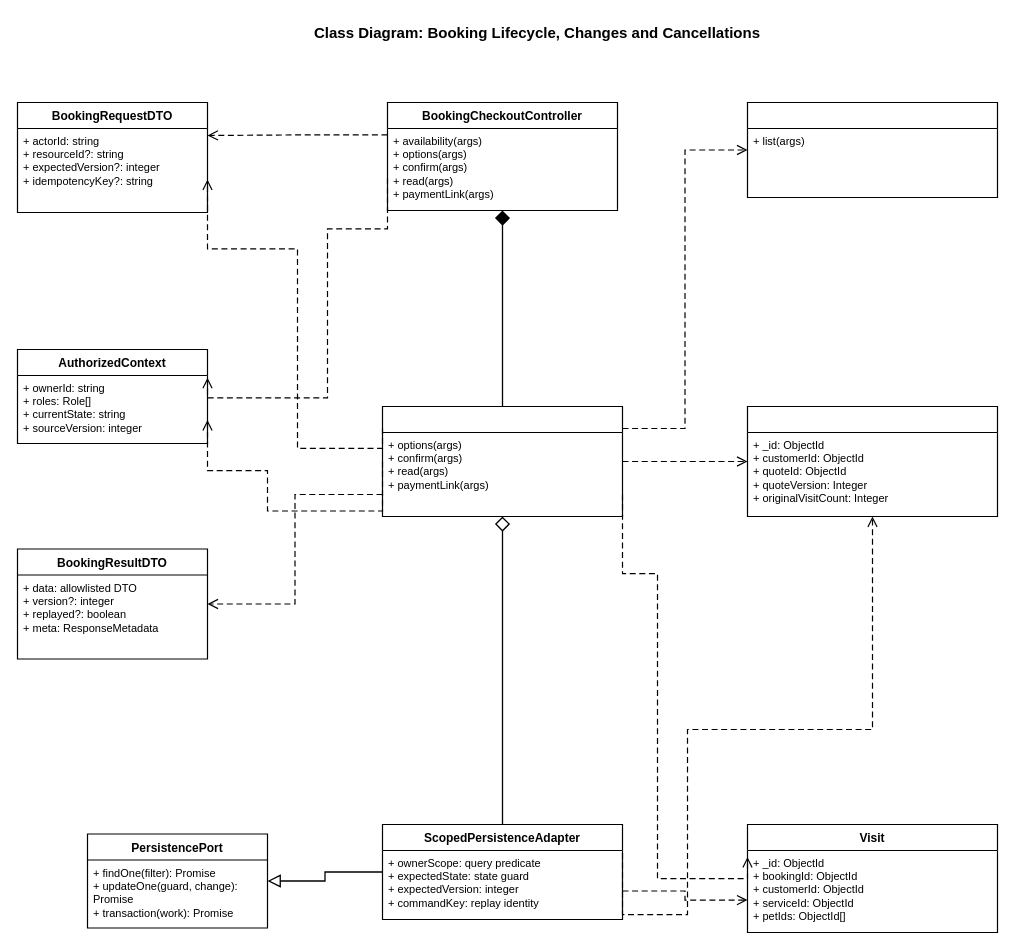
Image size: 1016x951. Some labels were removed from this diagram. The box of each missing label's shape, as (x1, y1, x2, y2) in pixels:
Booking: (746, 405, 998, 517)
BookingCheckoutService: (381, 405, 623, 517)
CustomerBookingsService: (746, 101, 998, 198)
